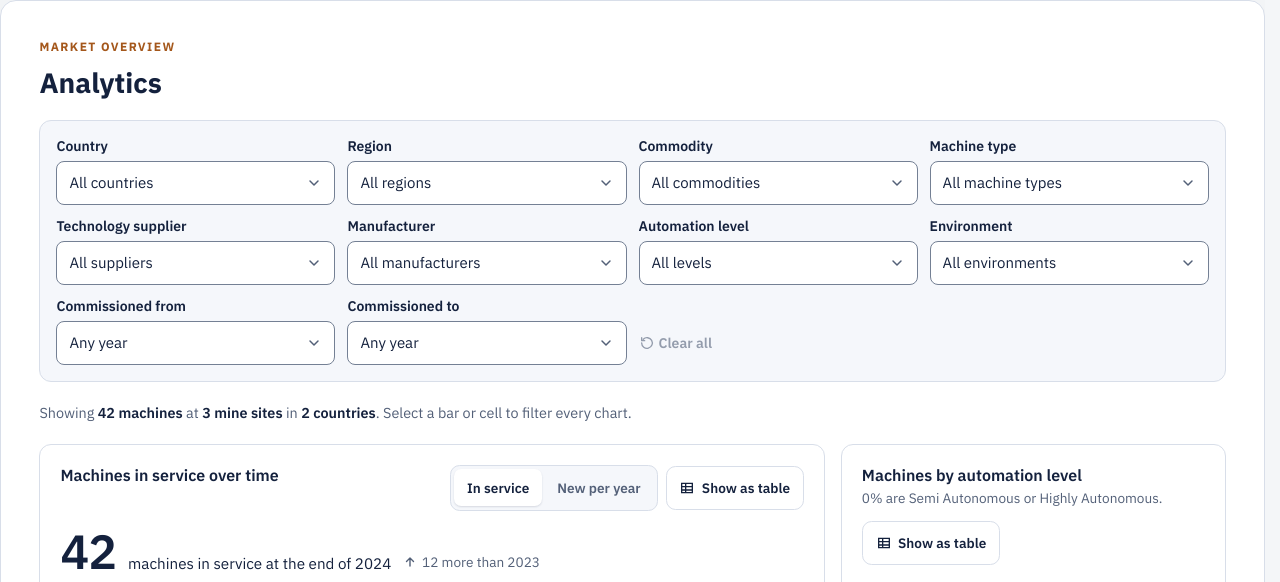
Scenario: AnalyticsPage live API behaviour › filters by a commissioning year range and names it in the summary
Select "2024" in the dropdown labelled "Commissioned from" at (196, 343), box left=56, top=321, right=335, bottom=365
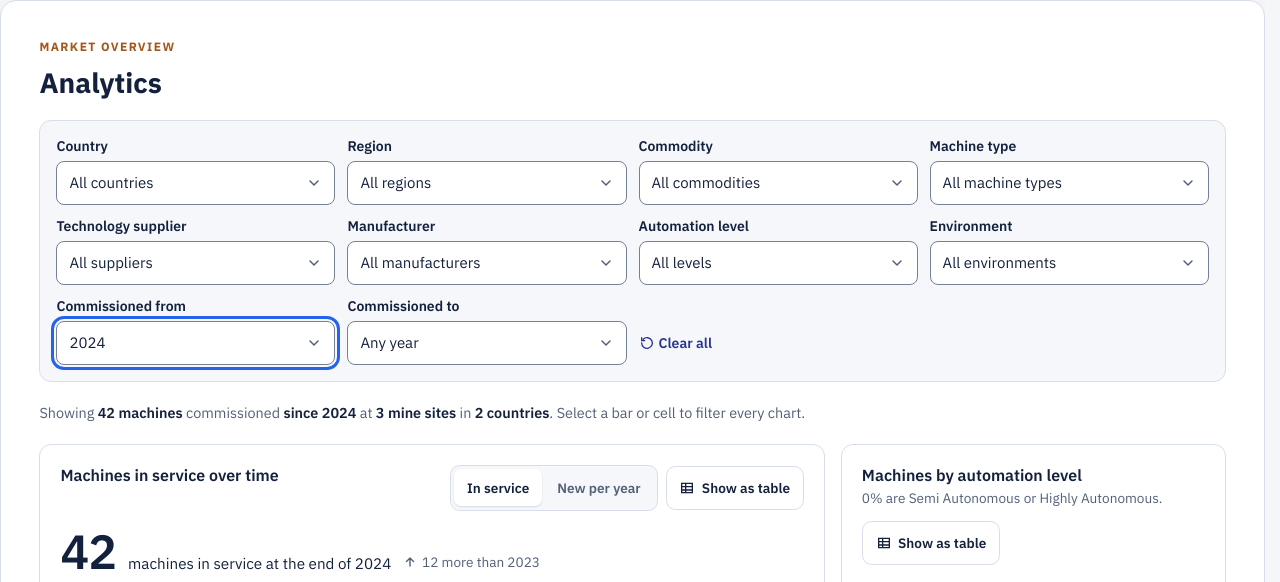
Select "2024" in the dropdown labelled "Commissioned to" at (487, 343), box left=347, top=321, right=626, bottom=365
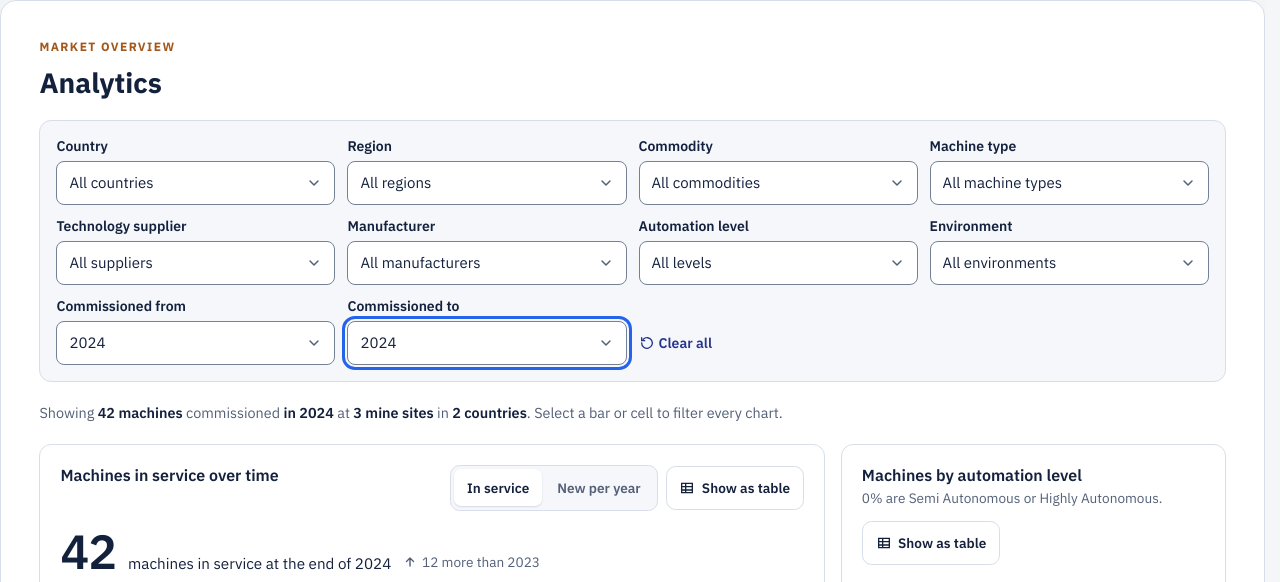
Result: the text "Showing" shows "Showing 42 machines commissioned in 2024 at 3 mine sites in 2 countries" at left=39, top=403, right=783, bottom=422
